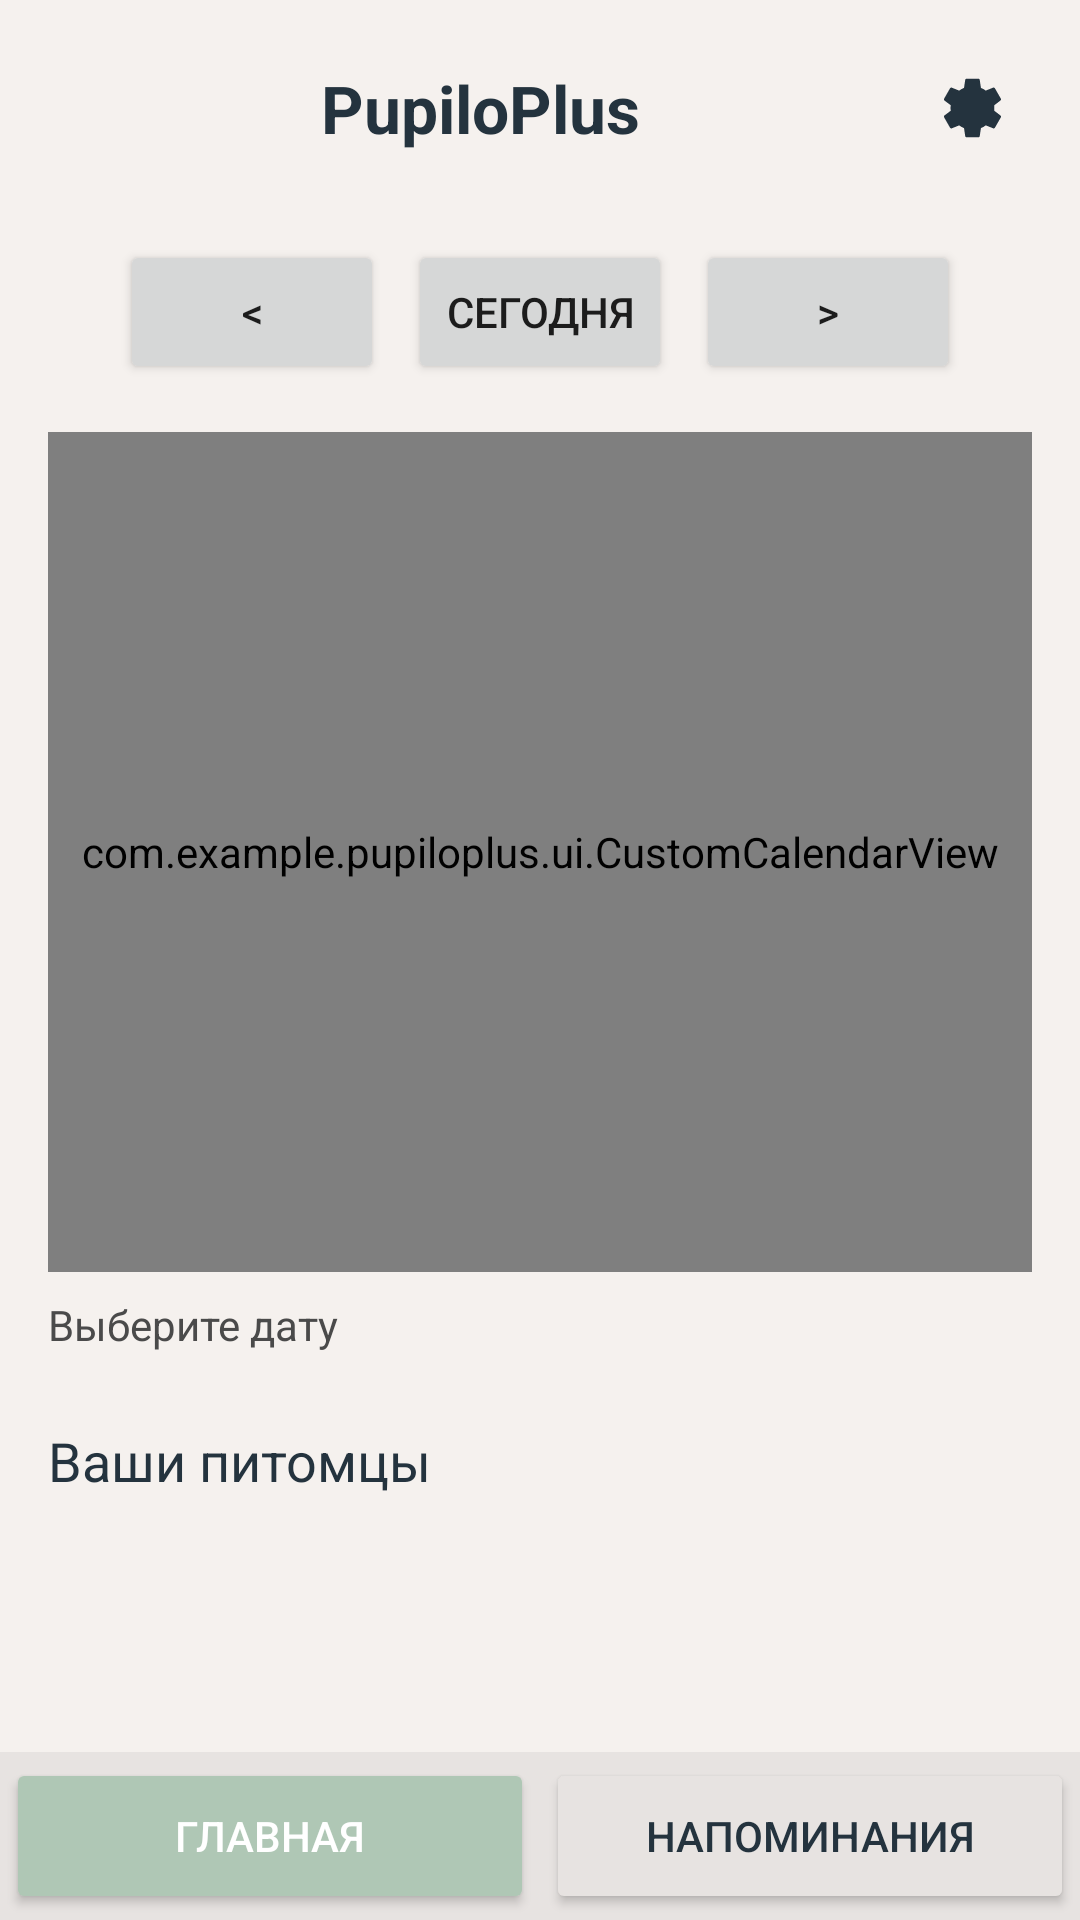

Named icons in this screenshot (1080 × 1920) and their bounding boxes, (x1,y1,x2,y2):
Настройки: (944,78,1001,138)
